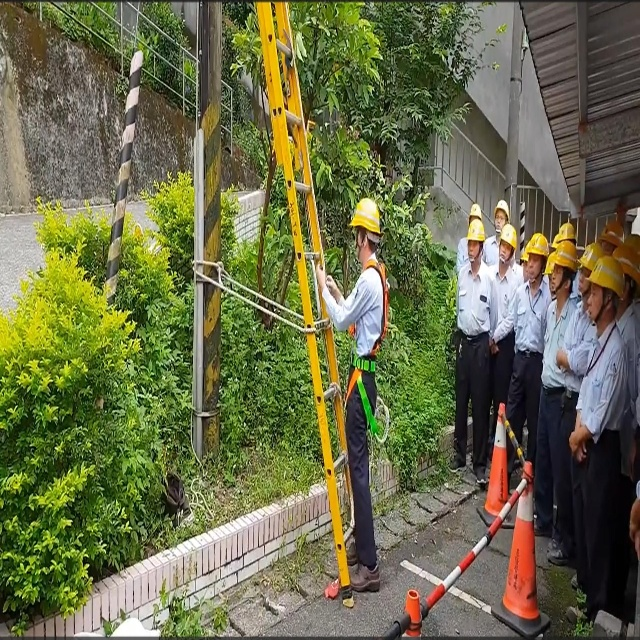Arnes_seguridad: (343, 262, 390, 452)
